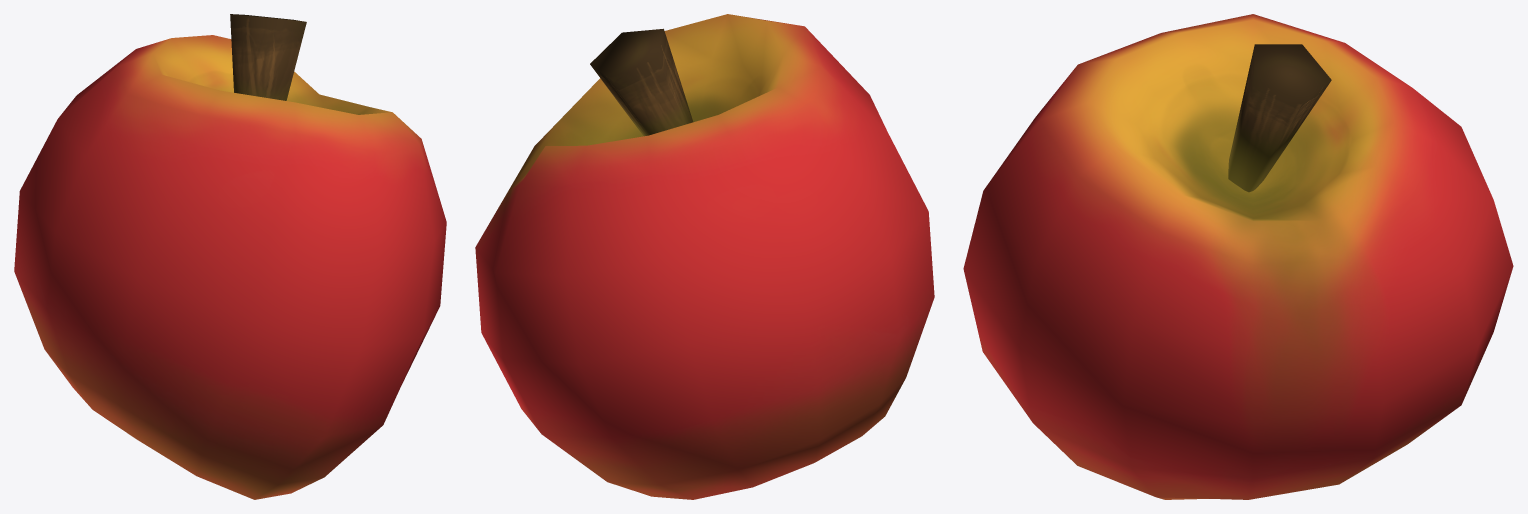
File: apple.fbx
3 views of the same model, side by side, from view 1: azimuth 30°, elevation 25°; view 2: azimuth 150°, elevation 25°; view 3: azimuth 270°, elevation 25° (orthographic). The views are drawn at different scales.
Parts seen in each view (by area): view 1: Sphere.002, Cylinder.010; view 2: Sphere.002, Cylinder.010; view 3: Sphere.002, Cylinder.010.
Part boxes in pixels (x1,y1,x2,y2): Sphere.002: (14,35,446,499); Cylinder.010: (230,14,306,100); Sphere.002: (475,14,934,499); Cylinder.010: (590,28,693,136); Sphere.002: (963,14,1513,499); Cylinder.010: (1228,44,1331,192).
Size of the model in its own units: 41.48 by 45.35 by 49.18.
1 material, 1 textured.
